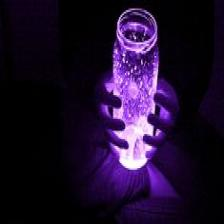purple: (113, 10, 159, 124), (117, 8, 158, 54)
